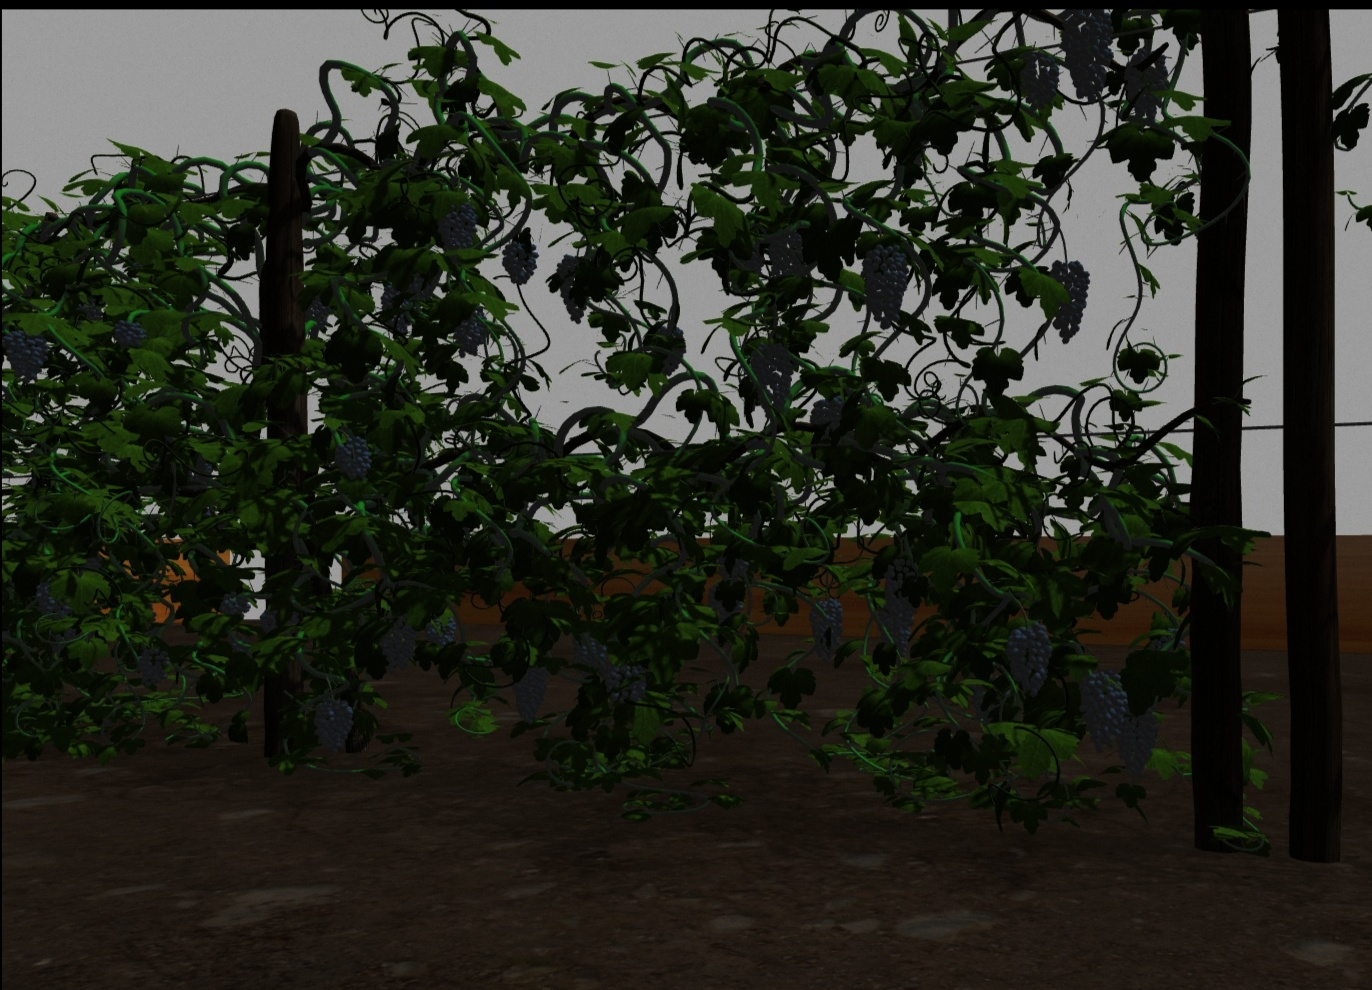grape: (1060, 12, 1113, 102), (861, 243, 909, 329), (1003, 620, 1053, 700), (1078, 673, 1126, 751), (1045, 258, 1089, 342), (1114, 707, 1160, 780), (1122, 49, 1167, 123), (749, 341, 793, 415), (1015, 50, 1059, 113), (883, 557, 919, 628), (434, 198, 479, 254), (2, 327, 48, 380), (554, 254, 588, 325), (512, 658, 549, 725), (313, 695, 354, 754), (808, 598, 843, 661), (377, 617, 416, 670), (333, 432, 372, 482), (452, 302, 485, 358), (766, 230, 801, 282), (499, 240, 538, 285), (604, 662, 644, 703), (876, 610, 912, 655), (568, 630, 607, 669), (135, 645, 170, 688), (112, 318, 144, 350), (423, 617, 458, 646), (218, 590, 249, 614)
